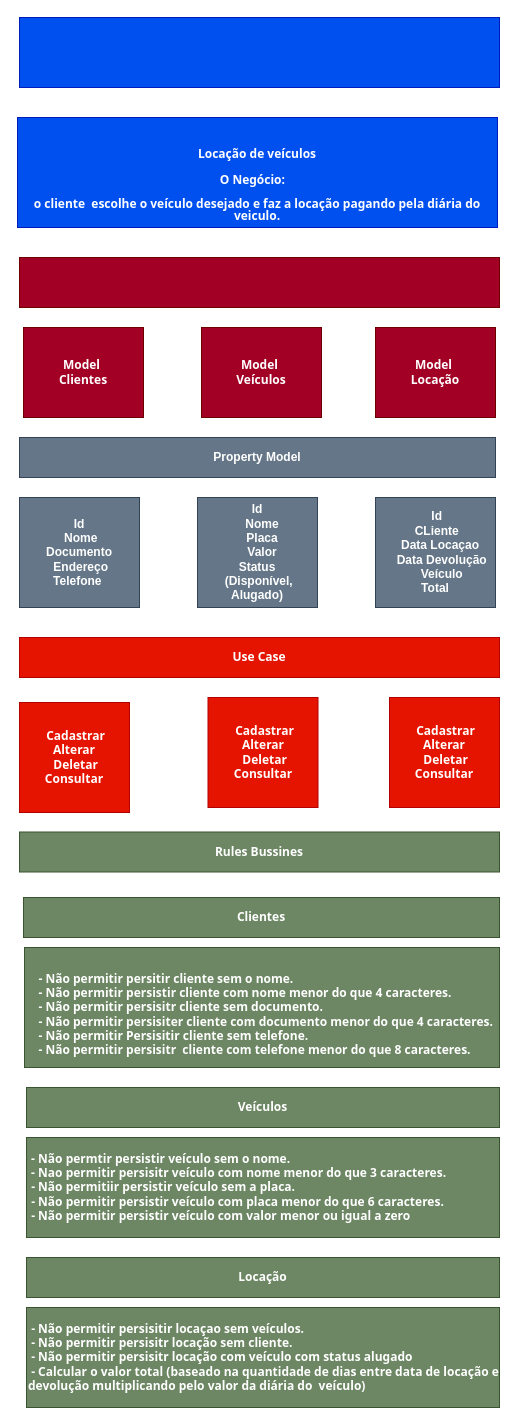
The diagram is 517 pixels wide and 1425 high, and some of its shapes have lost their labels. Each missing label, with the box of its shape:
Domain (Negócio): (18, 16, 500, 88)
Model: (18, 256, 500, 308)
